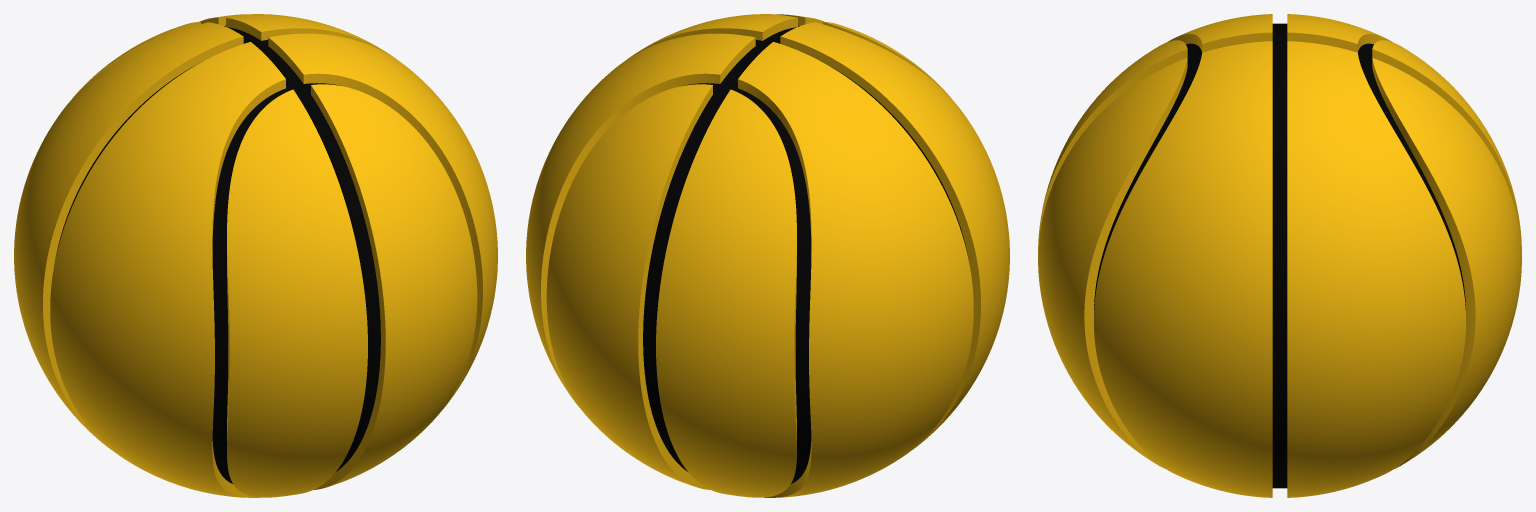
The model's file is Basketball.fbx.
The picture shows the model from 3 angles, left to right: view 1: azimuth 30°, elevation 25°; view 2: azimuth 150°, elevation 25°; view 3: azimuth 270°, elevation 25°; orthographic projection.
Visible parts, largest first — view 1: mesh11, mesh26, mesh0, mesh21, mesh3, mesh6, mesh23, mesh4, mesh2, mesh9, mesh16, mesh17; view 2: mesh21, mesh32, mesh29, mesh11, mesh3, mesh16, mesh13, mesh15, mesh28, mesh19, mesh6, mesh8; view 3: mesh6, mesh16, mesh0, mesh29, mesh3, mesh1, mesh27, mesh26, mesh32, mesh25, mesh31, mesh11 (+3 smaller).
Boxes of the visible parts, left/top/right/bottom form: mesh11: left=50, top=42, right=285, bottom=497; mesh26: left=227, top=89, right=367, bottom=497; mesh0: left=311, top=84, right=477, bottom=486; mesh21: left=14, top=22, right=242, bottom=435; mesh3: left=55, top=25, right=380, bottom=483; mesh6: left=269, top=33, right=497, bottom=389; mesh23: left=43, top=36, right=243, bottom=449; mesh4: left=303, top=73, right=482, bottom=408; mesh2: left=311, top=85, right=385, bottom=489; mesh9: left=212, top=79, right=285, bottom=497; mesh16: left=226, top=14, right=378, bottom=47; mesh17: left=261, top=28, right=396, bottom=59; mesh21: left=738, top=42, right=973, bottom=497; mesh32: left=656, top=89, right=796, bottom=497; mesh29: left=546, top=84, right=712, bottom=486; mesh11: left=781, top=22, right=1009, bottom=435; mesh3: left=643, top=25, right=968, bottom=483; mesh16: left=526, top=33, right=754, bottom=389; mesh13: left=780, top=36, right=980, bottom=449; mesh15: left=541, top=73, right=720, bottom=408; mesh28: left=638, top=85, right=712, bottom=489; mesh19: left=738, top=79, right=811, bottom=497; mesh6: left=645, top=14, right=797, bottom=47; mesh8: left=627, top=28, right=762, bottom=59; mesh6: left=1093, top=41, right=1272, bottom=497; mesh16: left=1287, top=41, right=1465, bottom=497; mesh0: left=1038, top=58, right=1187, bottom=462; mesh29: left=1372, top=58, right=1521, bottom=462; mesh3: left=1094, top=23, right=1465, bottom=488; mesh1: left=1084, top=58, right=1187, bottom=468; mesh27: left=1372, top=58, right=1475, bottom=468; mesh26: left=1041, top=40, right=1187, bottom=216; mesh32: left=1372, top=40, right=1518, bottom=216; mesh25: left=1038, top=49, right=1187, bottom=254; mesh31: left=1372, top=49, right=1521, bottom=254; mesh11: left=1180, top=14, right=1272, bottom=43.
Size of the model in its own units: 5 by 4.99 by 5.
